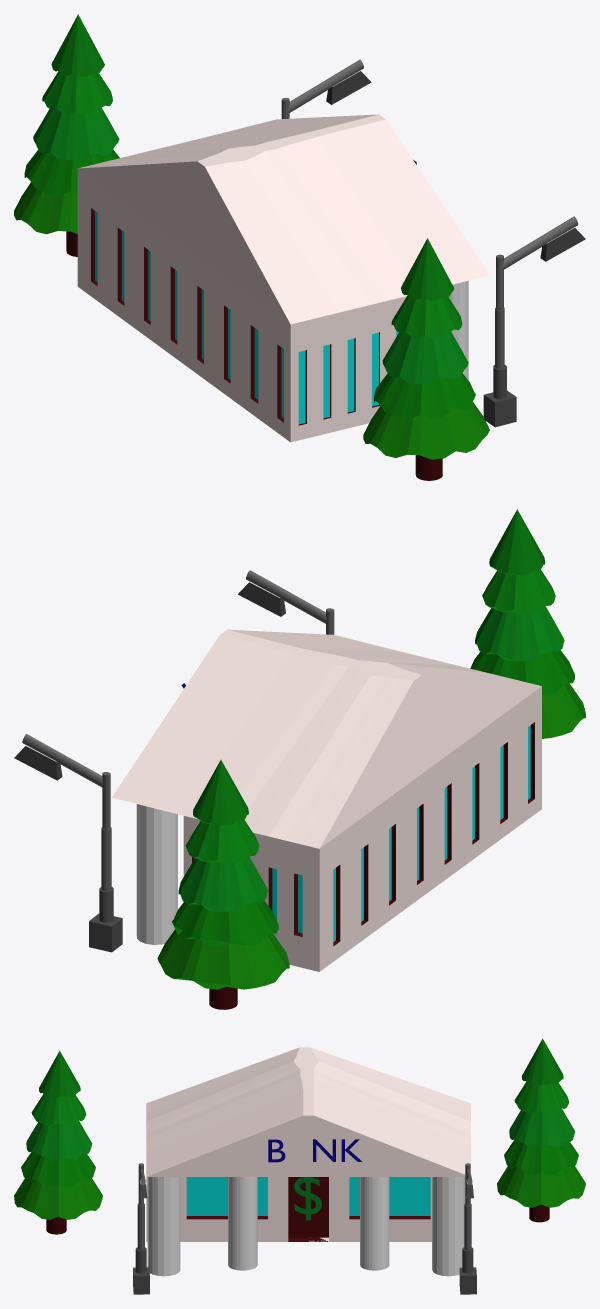
The model's file is bank (new version).fbx.
3 views of the same model, one above another, from view 1: azimuth 30°, elevation 25°; view 2: azimuth 150°, elevation 25°; view 3: azimuth 270°, elevation 25° (orthographic). The views are drawn at different scales.
Visible parts, largest first — view 1: Cube, Cone.007, Cone.006, Cone.004, Cone.005, Cone.003, Cone.009, Cone.001, Cone.010, Cone.008, Cone.002, Cylinder.002 (+7 smaller); view 2: Cube, Cylinder.003, Cone.003, Cone.004, Cone.006, Cone.010, Cone.005, Cone.009, Cone.001, Cone.002, Cone.008, Cone.007 (+6 smaller); view 3: Cube, Cylinder.002, Cylinder.003, Cylinder.001, Cylinder, Cone.003, Cone.007, Cone.006, Cone.004, Cone.005, Cone.010, Cone.009 (+9 smaller).
Part boxes in pixels (x1,y1,x2,y2): Cube: (77,114,489,442); Cone.007: (363,402,489,459); Cone.006: (382,331,468,384); Cone.004: (33,107,119,160); Cone.005: (374,373,475,419); Cone.003: (14,182,77,234); Cone.009: (391,295,462,338); Cone.001: (42,71,112,114); Cone.010: (24,149,119,195); Cone.008: (401,238,454,300); Cone.002: (51,14,104,76); Cylinder.002: (448,280,468,380); Cube: (112,629,541,971); Cylinder.003: (136,804,177,944); Cone.003: (157,929,289,989); Cone.004: (178,856,267,911); Cone.006: (475,606,564,661); Cone.010: (172,900,278,947); Cone.005: (470,650,574,695); Cone.009: (482,569,555,613); Cone.001: (185,819,259,863); Cone.002: (193,760,248,825); Cone.008: (489,509,545,574); Cone.007: (542,683,585,738); Cube: (146,1047,470,1241); Cylinder.002: (147,1177,180,1276); Cylinder.003: (432,1177,464,1276); Cylinder.001: (228,1177,257,1270); Cylinder: (360,1177,389,1270); Cone.003: (497,1166,585,1207); Cone.007: (14,1178,102,1219); Cone.006: (26,1120,92,1160); Cone.004: (509,1108,574,1148); Cone.005: (21,1151,95,1186); Cone.010: (504,1139,578,1174); Cone.009: (31,1093,86,1125).
Size of the model in its own units: 4867 by 3900 by 10482.
